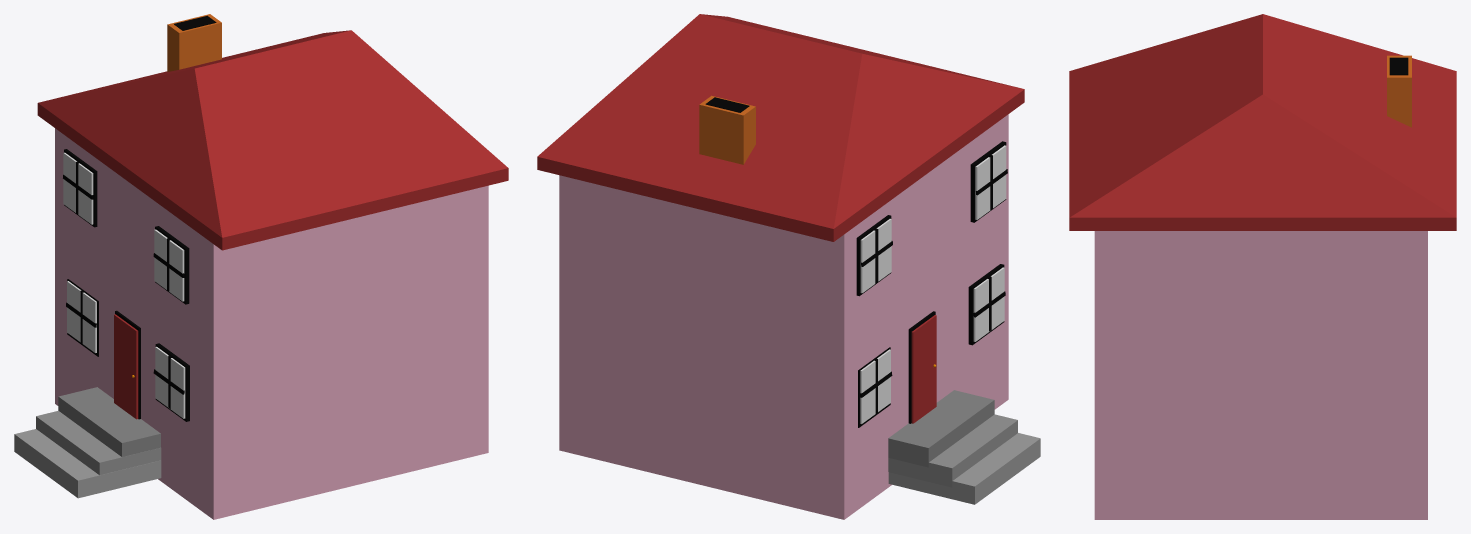
File: house.fbx
The picture shows the model from 3 angles, left to right: view 1: azimuth 30°, elevation 25°; view 2: azimuth 150°, elevation 25°; view 3: azimuth 270°, elevation 25°; orthographic projection. The views are drawn at different scales.
Parts seen in each view (by area): view 1: Cube, Plane.001, Cube.003, Cube.005, Cube.004, Cube.023, Cube.002, Cube.009, Cube.016, Cube.007, Cube.020, Cube.015; view 2: Cube, Plane.001, Cube.005, Cube.003, Cube.004, Cube.023, Cube.002, Cube.020, Cube.016, Cube.009, Cube.007, Cube.010 (+1 smaller); view 3: Cube, Plane.001, Cube.023.
Part boxes in pixels (x1,y1,x2,y2): Cube: (55, 128, 488, 519); Plane.001: (37, 30, 508, 250); Cube.003: (14, 429, 161, 498); Cube.005: (58, 387, 160, 456); Cube.004: (36, 410, 161, 475); Cube.023: (167, 14, 221, 71); Cube.002: (114, 314, 138, 419); Cube.009: (155, 346, 185, 418); Cube.016: (154, 229, 184, 301); Cube.007: (67, 281, 96, 352); Cube.020: (63, 152, 93, 224); Cube.015: (155, 226, 189, 304); Cube: (559, 114, 1008, 519); Plane.001: (537, 14, 1024, 241); Cube.005: (888, 390, 994, 467); Cube.003: (888, 433, 1040, 504); Cube.004: (888, 414, 1017, 487); Cube.023: (699, 95, 755, 164); Cube.002: (911, 315, 936, 423); Cube.020: (860, 218, 891, 293); Cube.016: (975, 145, 1006, 219); Cube.009: (973, 267, 1004, 341); Cube.007: (860, 349, 890, 423); Cube.010: (968, 264, 1004, 345); Cube: (1094, 231, 1427, 519); Plane.001: (1069, 14, 1456, 230); Cube.023: (1387, 55, 1411, 127).
Bounding box in the file's own units: 1713 × 1689 × 1495.
